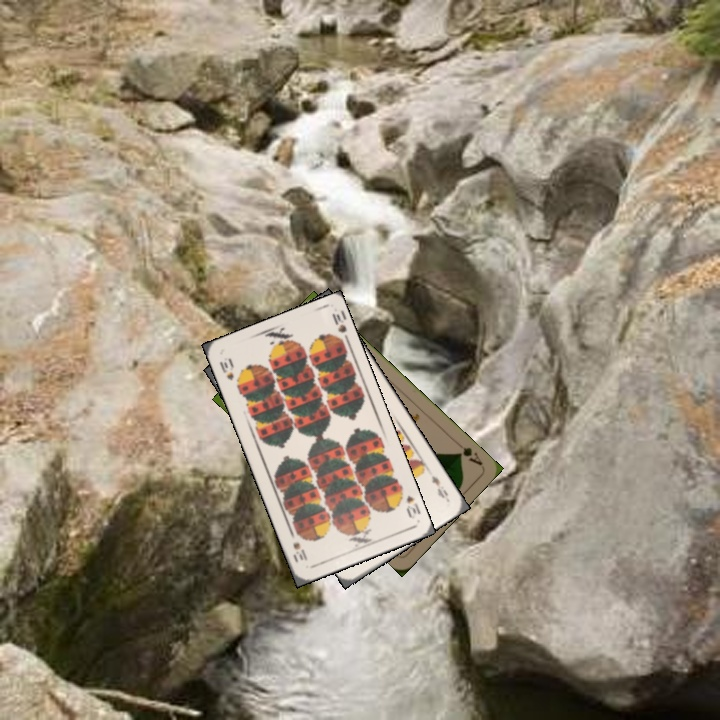E9: (427, 471, 451, 503)
GA: (453, 443, 485, 468)
S10: (395, 485, 423, 521), (215, 354, 236, 383)
